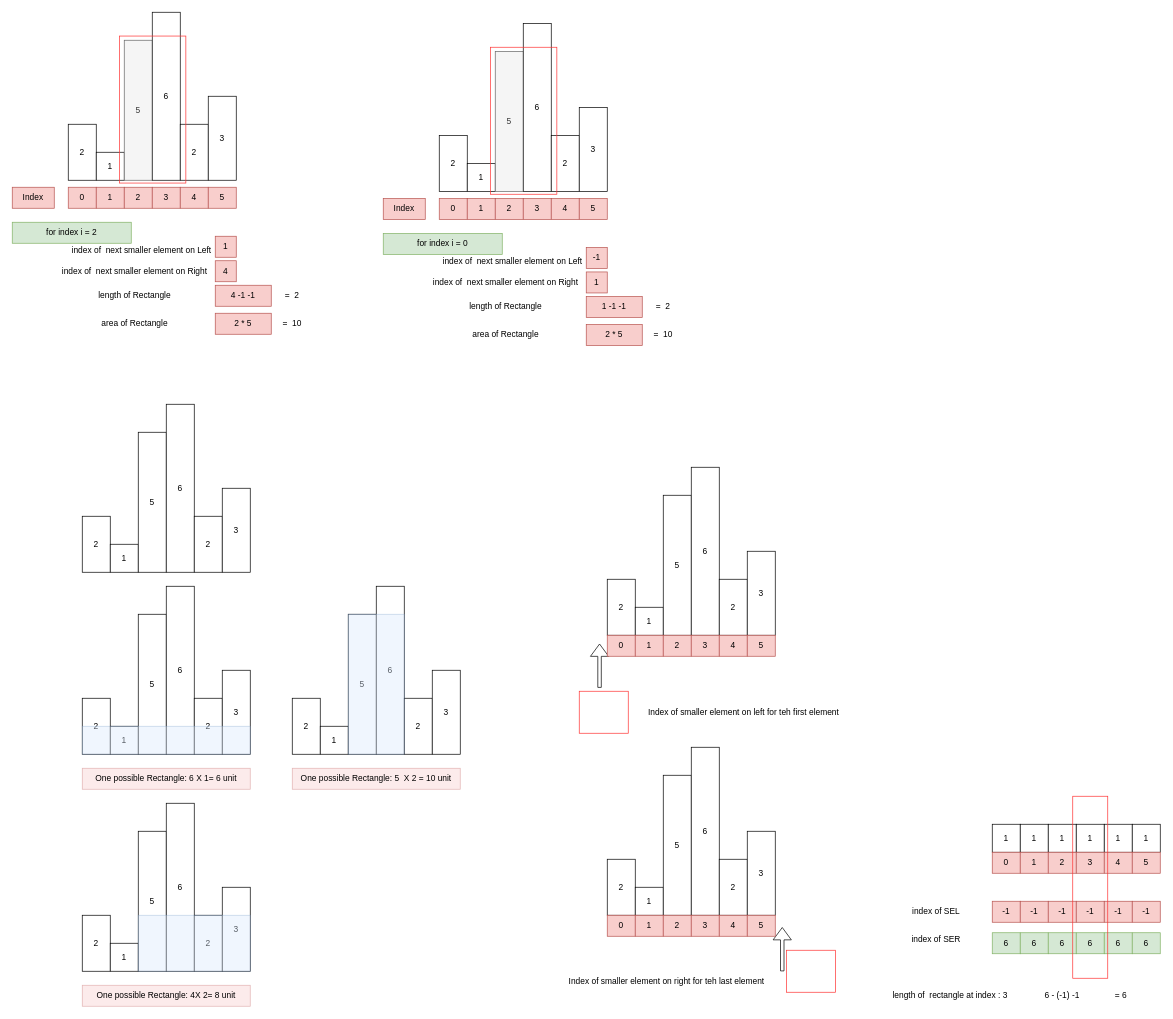
This 1173x1019 diagram has some shape labels left out. Each missing label, with the box of its shape:
index -1: (579, 691, 628, 733)
index 6: (786, 950, 835, 992)
